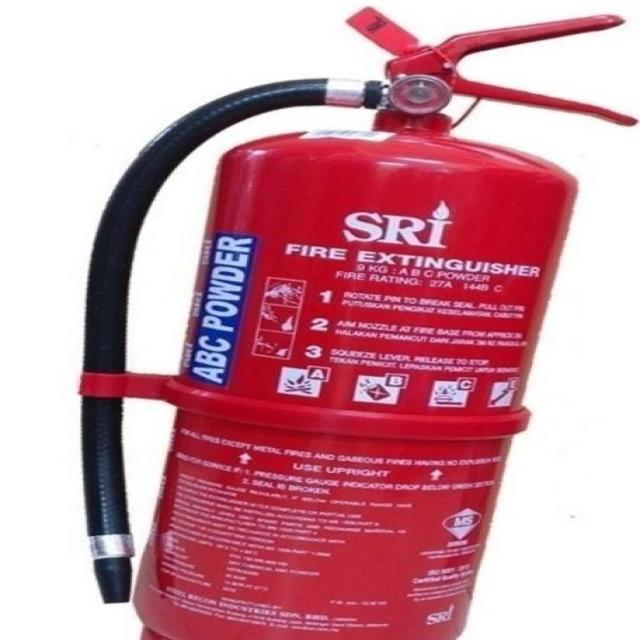fire_extinguisher: (63, 2, 639, 639)
